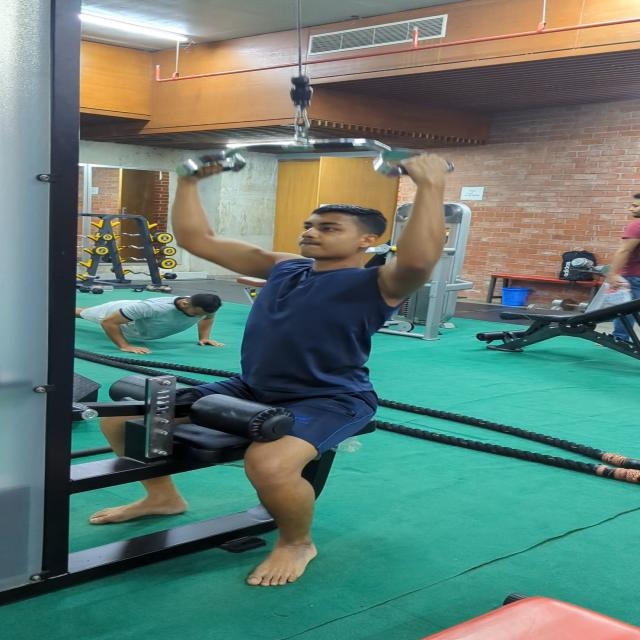Normal_LatPulldown: (101, 158, 471, 590)
